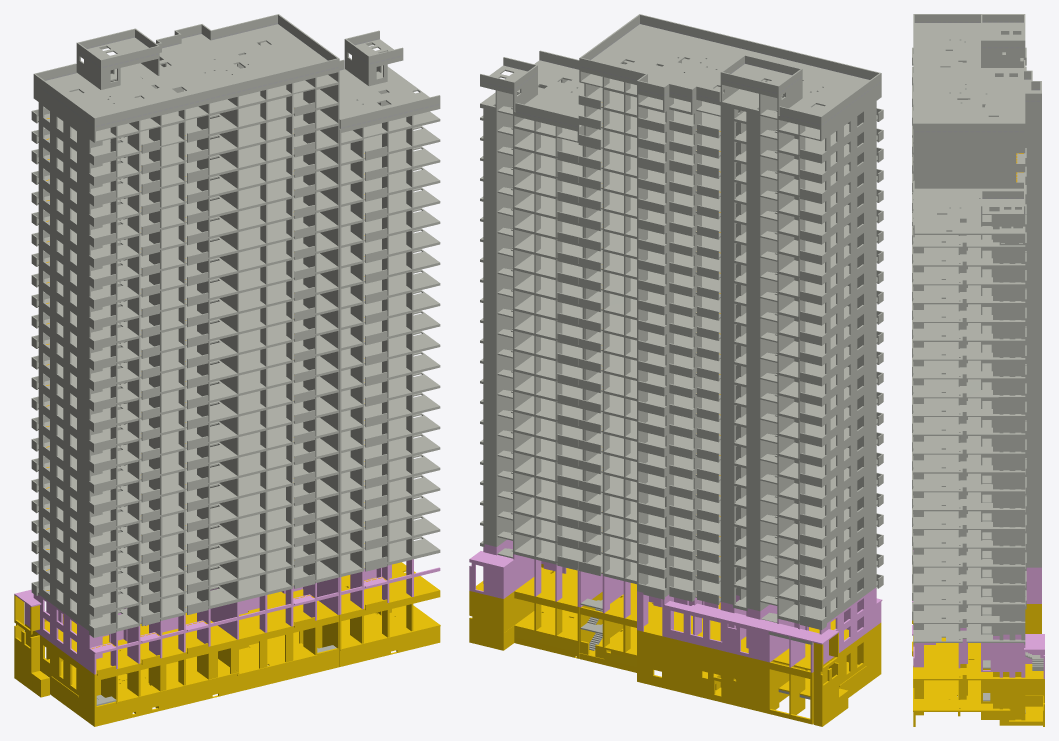
Rendered from kr_dav.gltf.
3 views of the same model, side by side, from view 1: azimuth 30°, elevation 25°; view 2: azimuth 150°, elevation 25°; view 3: azimuth 270°, elevation 25° (orthographic). The views are drawn at different scales.
Bounding box in the file's own units: 54.44 × 92 × 19.2.
